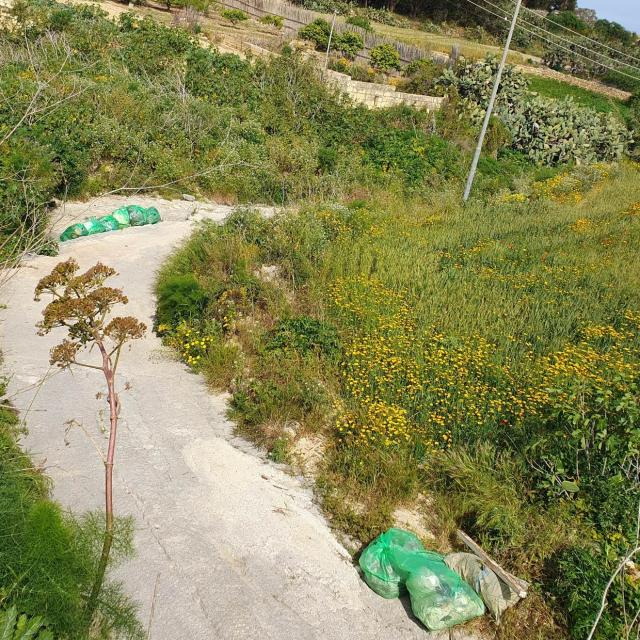Other litter: (445, 529, 530, 624)
Plastic bag - wrapper: (359, 527, 486, 634), (59, 205, 162, 242)
